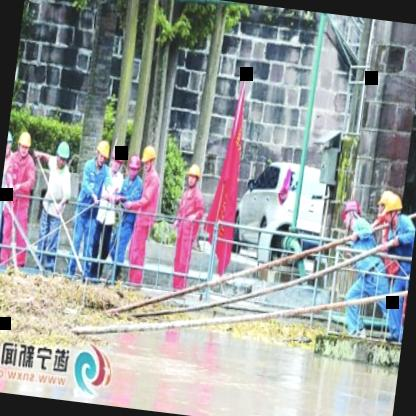helmet: (338, 196, 364, 232), (375, 184, 394, 221), (383, 193, 403, 224), (14, 128, 32, 158), (94, 136, 111, 167), (54, 139, 72, 168), (184, 161, 202, 189), (140, 144, 158, 172), (126, 151, 144, 179), (108, 146, 125, 174), (4, 129, 14, 160)
